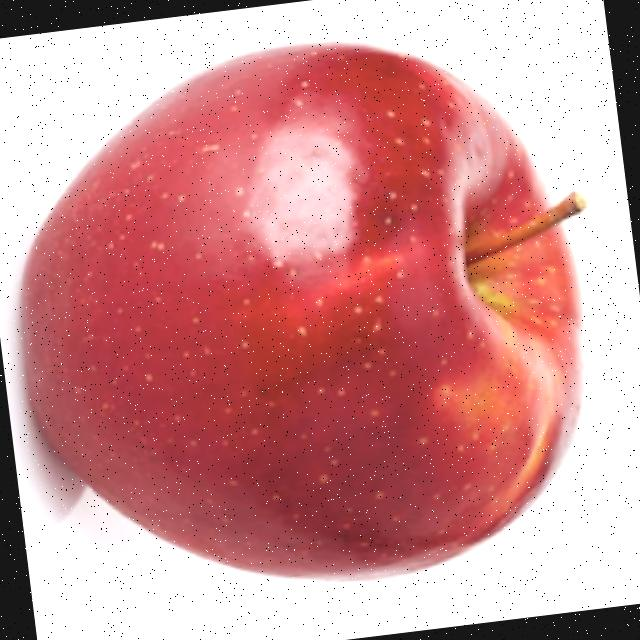Ripe: (0, 3, 620, 622)
